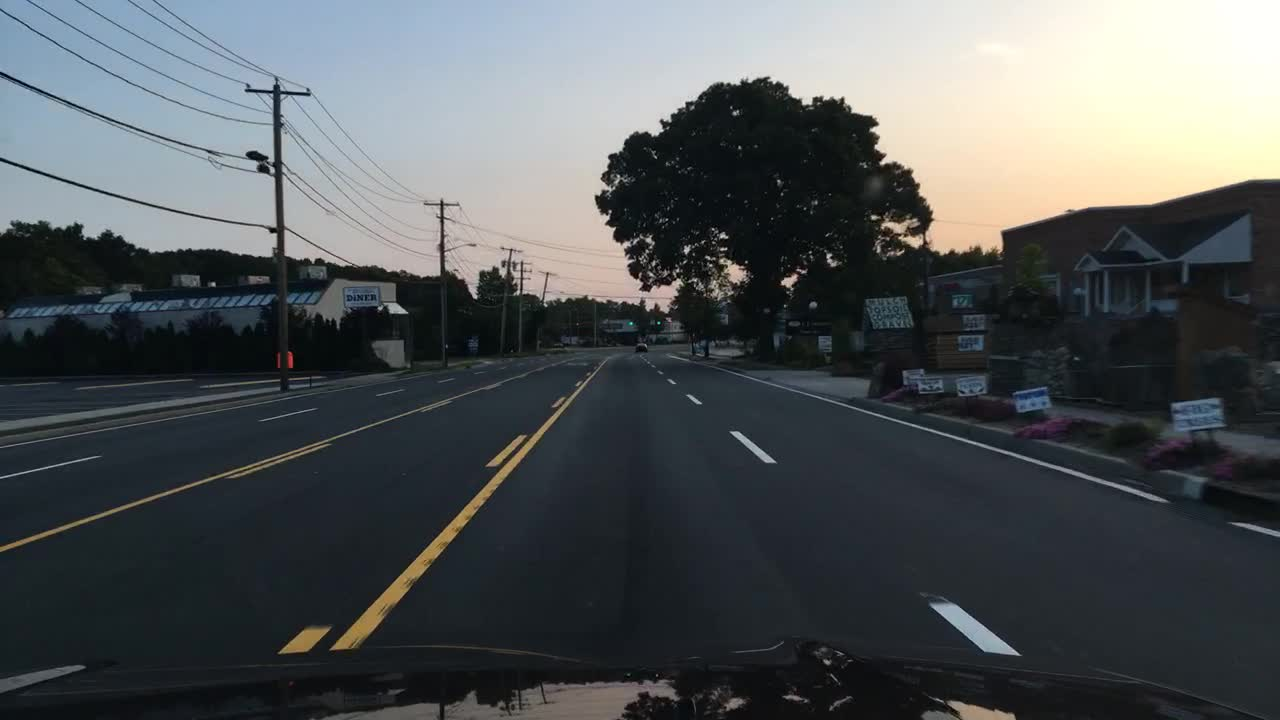car: (634, 339, 649, 351), (550, 338, 565, 350)
traffic light: (624, 317, 637, 327), (655, 317, 664, 329)
traffic sign: (814, 335, 832, 353), (275, 351, 291, 368), (463, 335, 478, 353)
